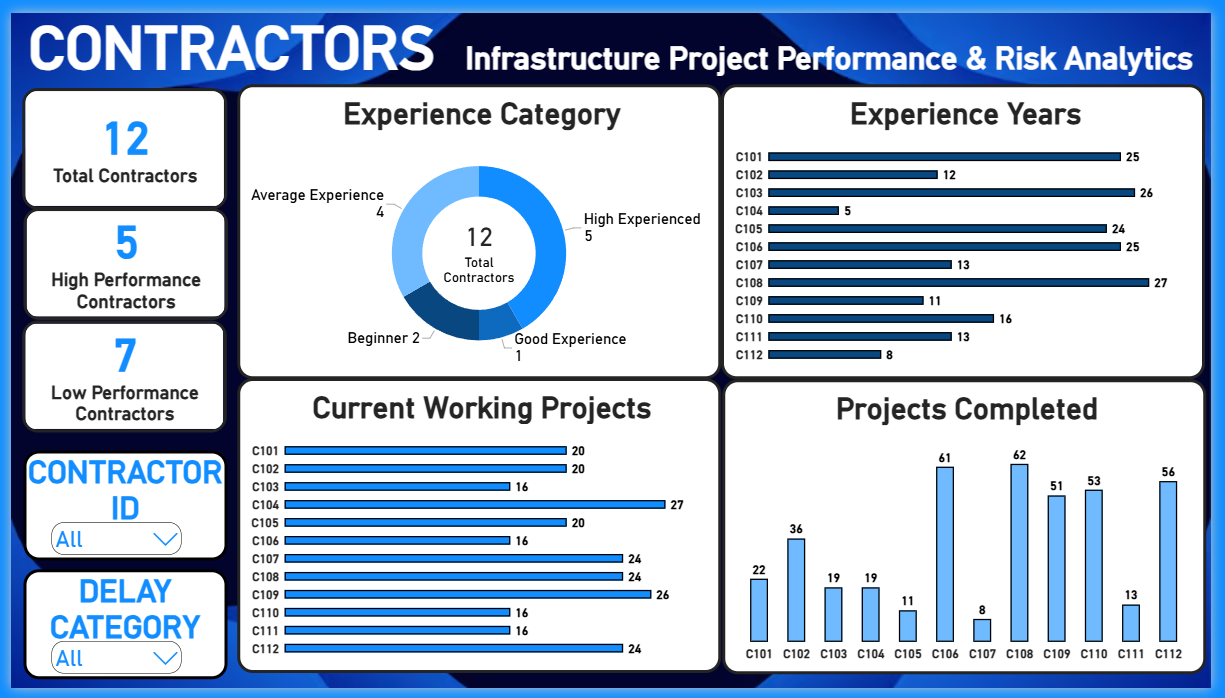

Layout of this report page (visuals, bound fields, positions):
{"tool":"powerbi","page":{"name":"Contractors","canvas":[1920,1080],"ordinal":1},"visuals":[{"type":"textbox","box":[0,0,1920,228],"z":0},{"type":"donutChart","title":"Experience Category","fields":{"Category":["Contractors.Experience_Category"],"Y":["CountNonNull(Contractors.Contractor_ID)"]},"box":[362,114,774,472],"z":1000},{"type":"cardVisual","fields":{"Data":["CountNonNull(Contractors.Contractor_ID)"]},"box":[18.1,119.4,328,194],"z":2000},{"type":"clusteredBarChart","title":"Experience Years","fields":{"Category":["Contractors.Contractor_ID"],"Y":["Sum(Contractors.Experience_Years)"]},"box":[1136,114,774,472],"z":3000},{"type":"columnChart","title":"Projects Completed","fields":{"Category":["Contractors.Contractor_ID"],"Y":["Sum(Contractors.Projects_Completed)"]},"box":[1138,586,774,472],"z":4000},{"type":"cardVisual","fields":{"Data":["CountNonNull(Contractors.Contractor_ID)"]},"box":[20.6,312.9,327.3,179.1],"z":5000},{"type":"clusteredBarChart","title":"Current Working Projects","fields":{"Category":["Contractors.Contractor_ID"],"Y":["CountNonNull(Projects.Project_ID)"]},"box":[362.3,584.6,774,472],"z":6000},{"type":"cardVisual","fields":{"Data":["CountNonNull(Contractors.Contractor_ID)"]},"box":[18.5,491.9,327.3,179.1],"z":7000},{"type":"textbox","box":[20,700,326,176],"z":8000},{"type":"slicer","fields":{"Values":["Projects.Status"]},"box":[60,810,218,76],"z":9000},{"type":"textbox","box":[20,890,326,176],"z":10000},{"type":"slicer","fields":{"Values":["Contractors.Delay_Category"]},"box":[60,1000,218,76],"z":11000}]}

Visuals, with their boxes in screenshot pixels (x1, y1, x2, y2), scaled from the page's 1920x1080 canvas onto the 1225x698 screenshot:
textbox: region(0, 0, 1224, 147)
"Experience Category" donutChart: region(231, 74, 725, 379)
cardVisual - CountNonNull(Contractors.Contractor_ID): region(12, 77, 221, 203)
"Experience Years" clusteredBarChart: region(725, 74, 1219, 379)
"Projects Completed" columnChart: region(726, 379, 1220, 684)
cardVisual - CountNonNull(Contractors.Contractor_ID): region(13, 202, 222, 318)
"Current Working Projects" clusteredBarChart: region(231, 378, 725, 683)
cardVisual - CountNonNull(Contractors.Contractor_ID): region(12, 318, 221, 434)
textbox: region(13, 452, 221, 566)
slicer - Projects.Status: region(38, 524, 177, 573)
textbox: region(13, 575, 221, 689)
slicer - Contractors.Delay_Category: region(38, 646, 177, 695)
